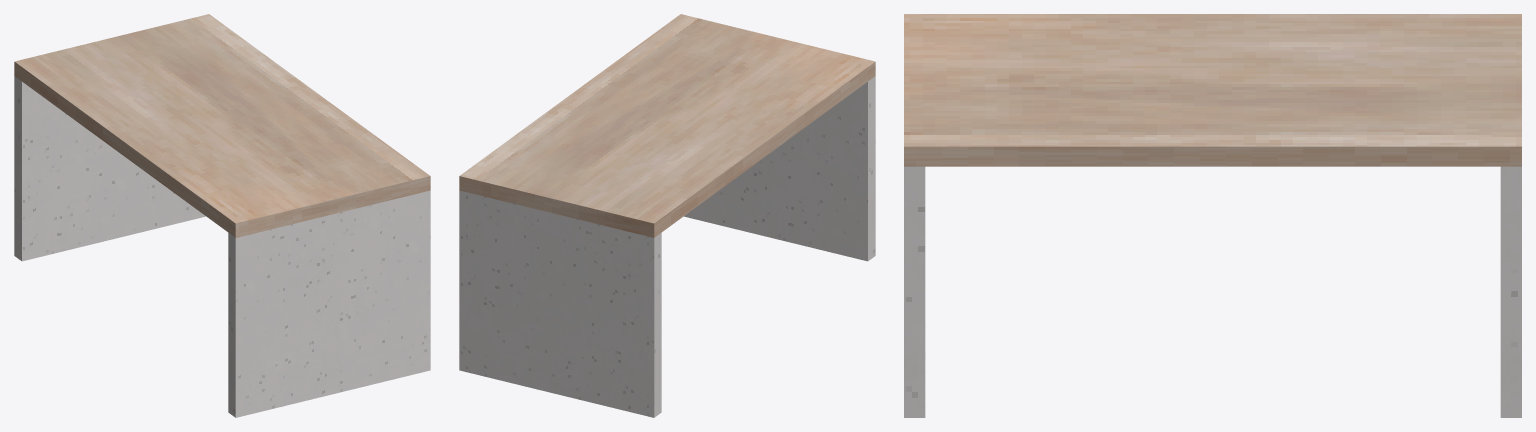
Rendered from TableCheck.glb.
3 renders of one model, left to right at view 1: azimuth 30°, elevation 25°; view 2: azimuth 150°, elevation 25°; view 3: azimuth 270°, elevation 25°, orthographic. The views are drawn at different scales.
Visible parts, largest first — view 1: Cube.001, Cube; view 2: Cube.001, Cube; view 3: Cube, Cube.001.
Boxes of the visible parts, box(x1,y1,x2,y2) form: Cube.001: box(14, 76, 430, 417); Cube: box(14, 14, 430, 237); Cube.001: box(459, 76, 875, 417); Cube: box(459, 14, 875, 237); Cube: box(904, 14, 1521, 166); Cube.001: box(904, 166, 1521, 417).
Size of the model in its own units: 0.8111 by 0.7735 by 1.6.
2 materials, 2 textured.
